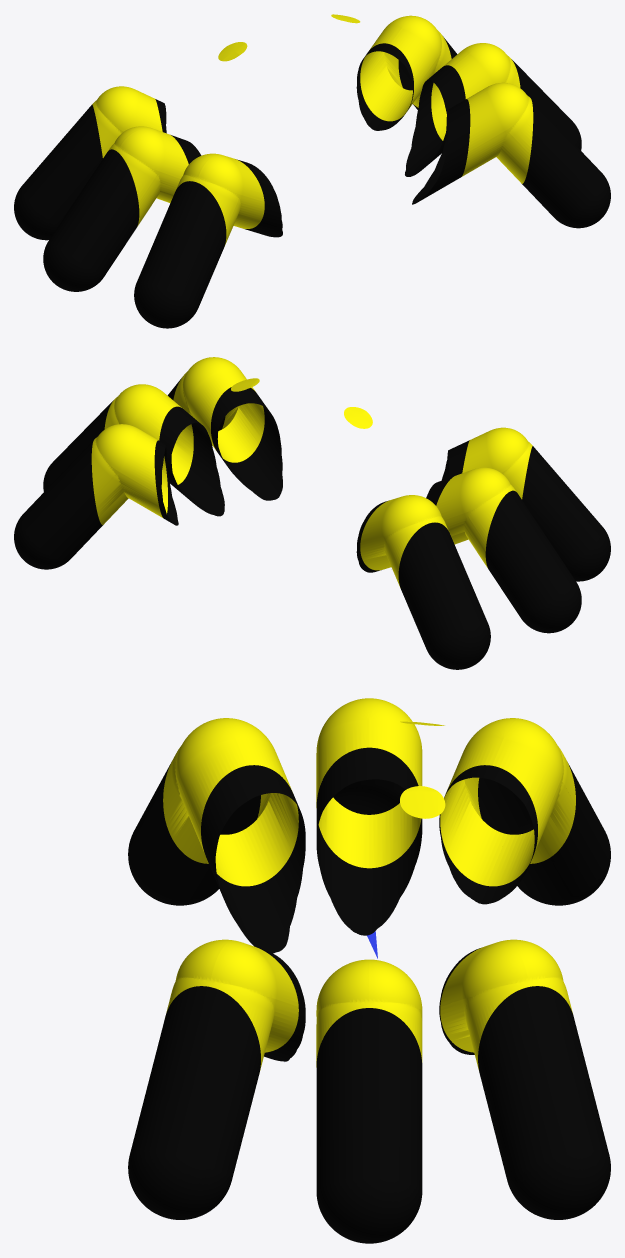
File: BUG LEGS.fbx
3 renders of one model, top to bottom at view 1: azimuth 30°, elevation 25°; view 2: azimuth 150°, elevation 25°; view 3: azimuth 270°, elevation 25°, orthographic. The views are drawn at different scales.
Visible parts, largest first — view 1: Object_6.001; view 2: Object_6.001; view 3: Object_6.001.
Part boxes in pixels (bbox=[...]): Object_6.001: bbox=[14, 14, 610, 328]; Object_6.001: bbox=[14, 357, 610, 669]; Object_6.001: bbox=[128, 698, 610, 1243].
Size of the model in its own units: 159 by 55.14 by 99.19.
